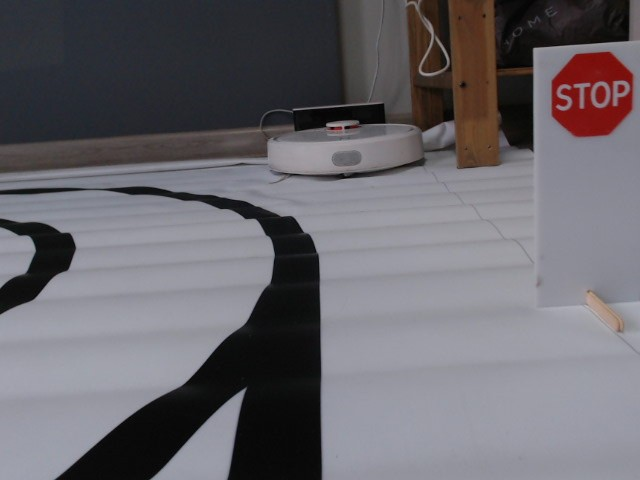Stop: (549, 48, 636, 141)
